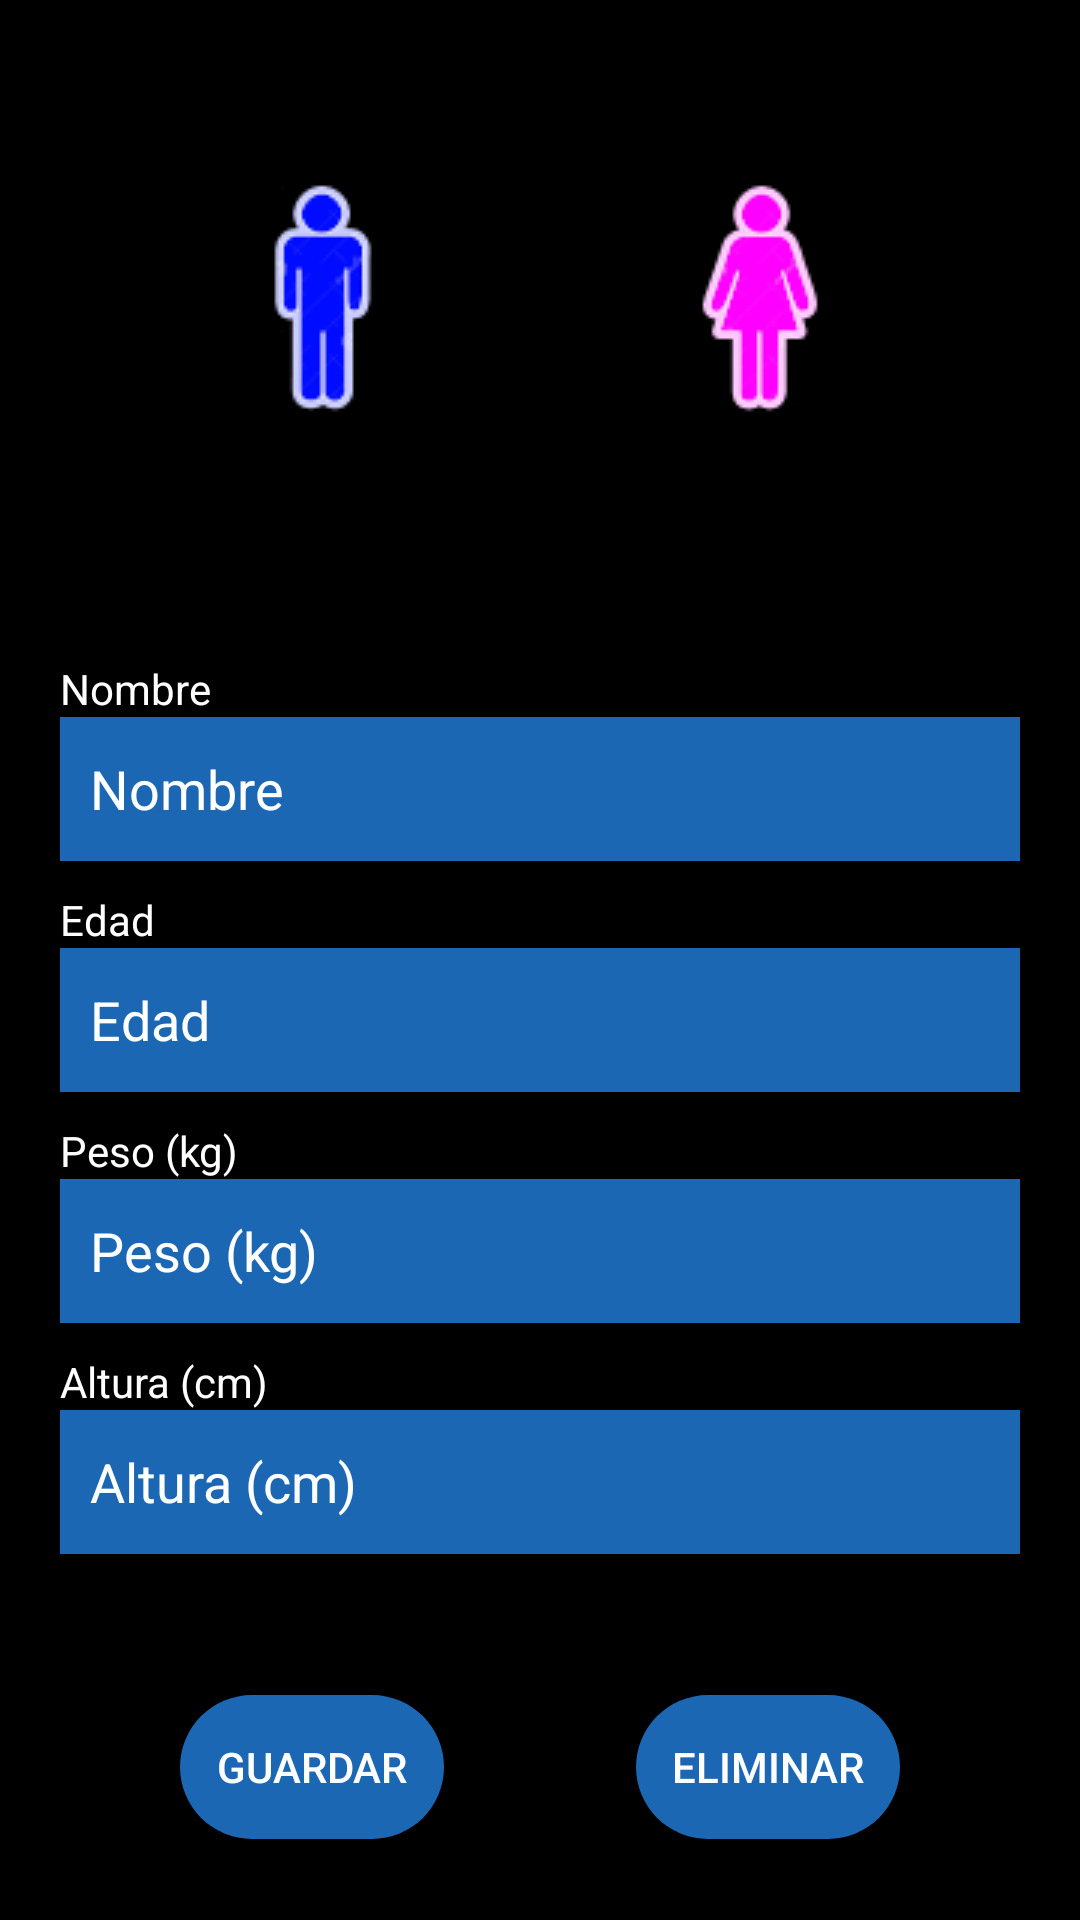

Screen size 1080x1920. Icon name, then its box in pixels as BBox(x1, y1, x2, y2):
Hombre: BBox(274, 185, 372, 411)
Mujer: BBox(702, 185, 818, 412)
